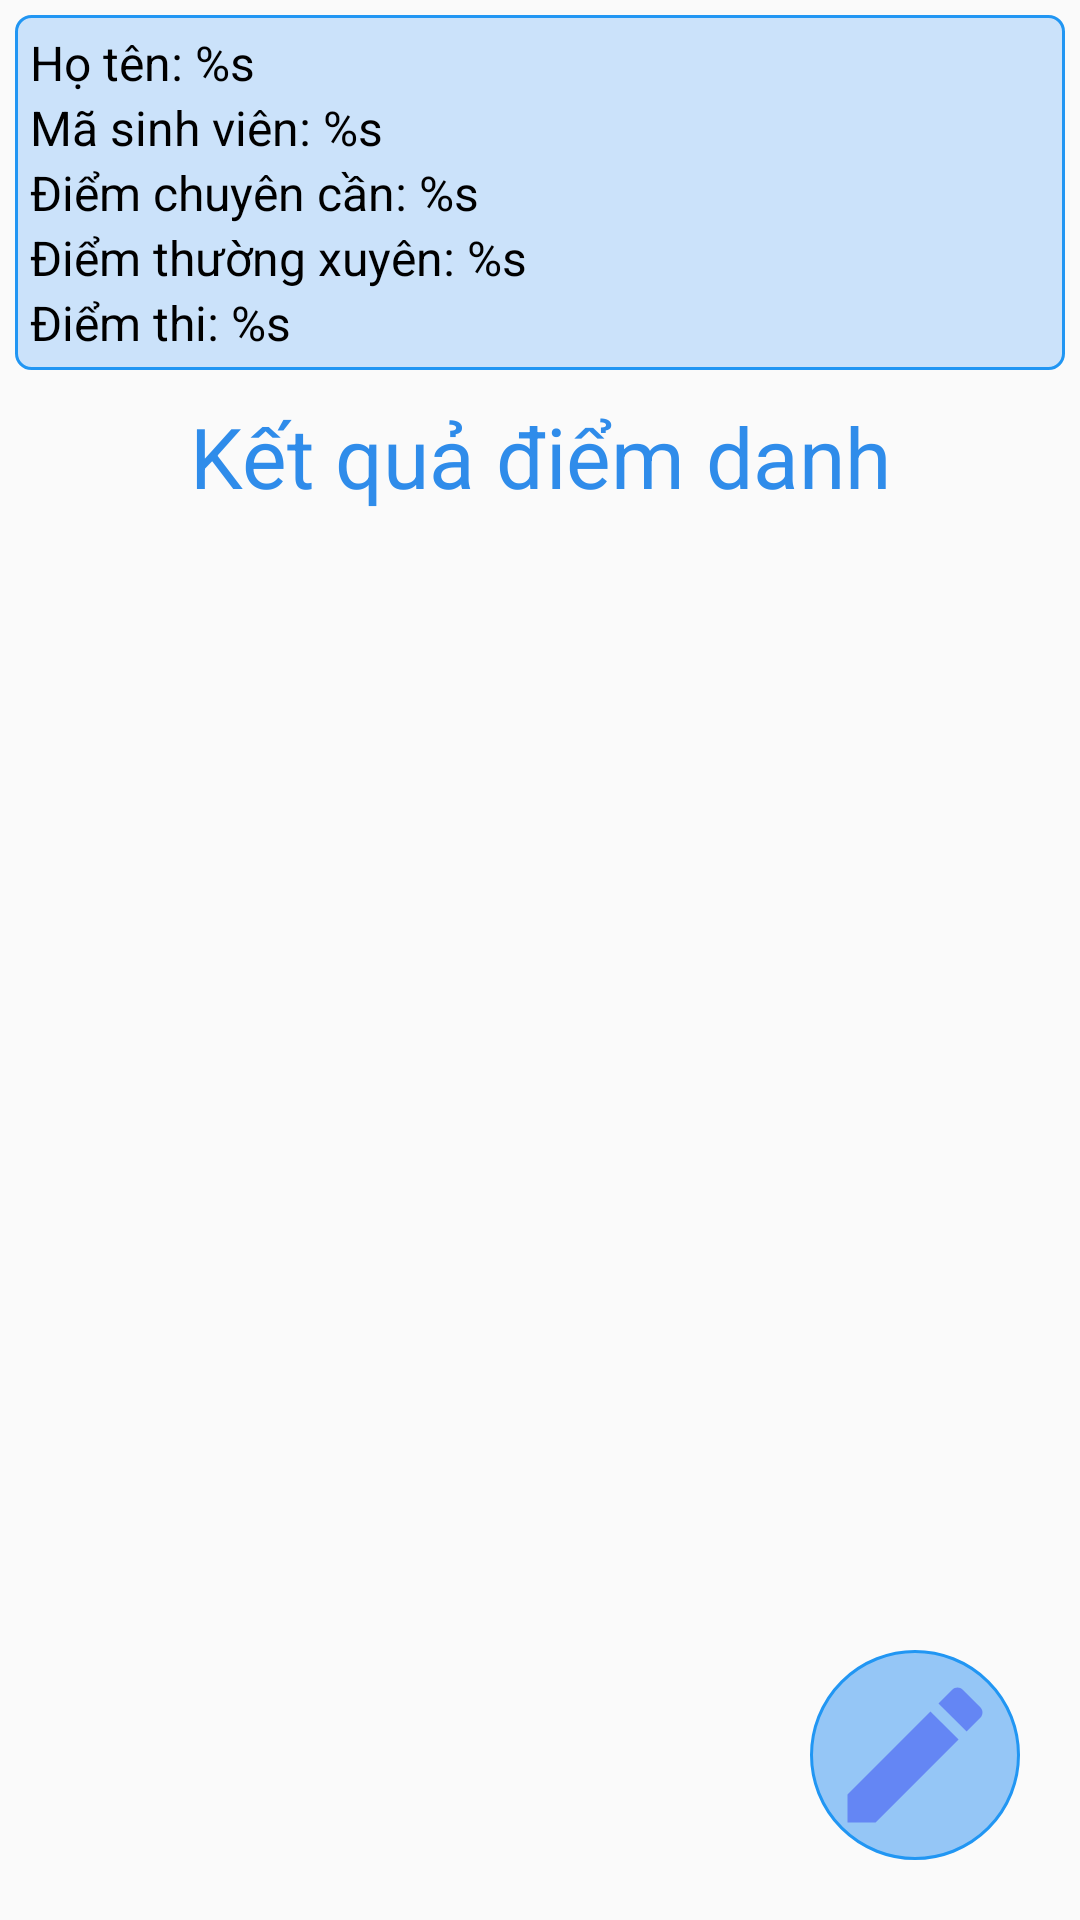

Named icons in this screenshot (1080px x 1920px) and their centers, (x=x, y=y):
edit: (x=915, y=1755)
